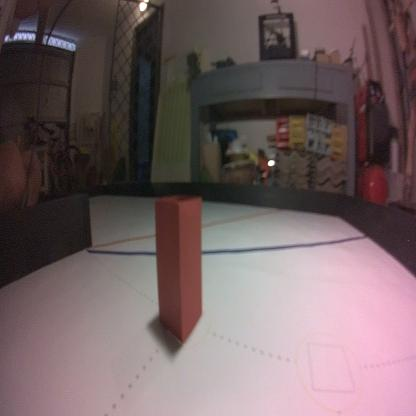red: (152, 192, 206, 344)
